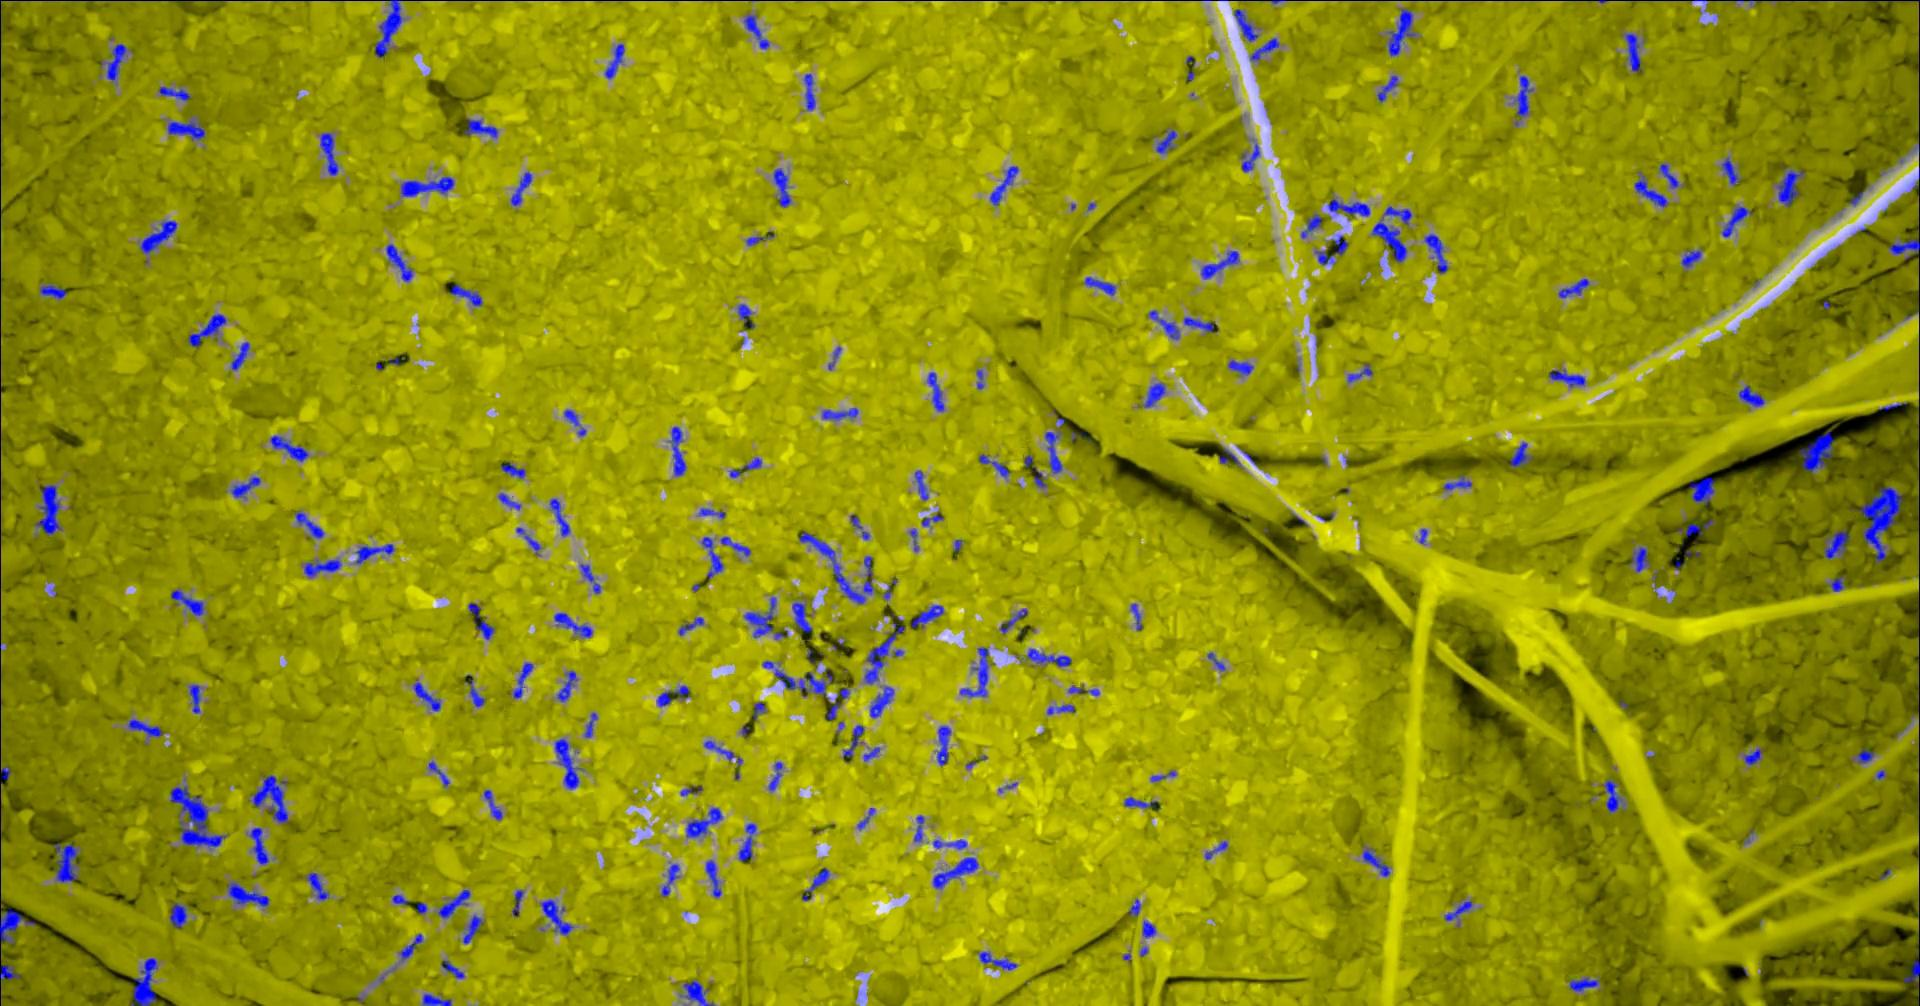ant: (797, 531, 872, 603), (863, 622, 904, 683), (251, 774, 288, 822), (775, 668, 832, 699), (375, 0, 401, 57), (1798, 431, 1834, 473), (1371, 218, 1406, 262), (959, 647, 988, 696), (932, 857, 978, 888), (554, 738, 582, 788), (1385, 8, 1415, 55), (187, 312, 226, 347), (130, 956, 157, 1005), (743, 596, 775, 636), (138, 220, 177, 253), (36, 484, 61, 533), (0, 908, 36, 942), (1888, 218, 1919, 258), (684, 807, 723, 837), (989, 165, 1018, 205), (540, 899, 573, 934), (1200, 250, 1239, 278), (1633, 174, 1667, 206), (226, 882, 269, 906), (400, 177, 453, 196), (703, 741, 742, 767), (386, 243, 411, 282), (99, 43, 126, 80), (1777, 169, 1803, 206), (270, 434, 307, 461), (1423, 232, 1448, 273), (1721, 206, 1751, 238), (437, 889, 470, 918), (552, 612, 592, 636), (469, 602, 494, 639), (701, 536, 723, 579), (801, 868, 829, 901), (53, 843, 77, 882), (743, 14, 770, 48), (1148, 310, 1178, 339), (1514, 75, 1531, 124), (170, 589, 203, 615), (824, 687, 850, 720), (319, 132, 338, 175), (669, 426, 686, 475), (413, 680, 439, 710), (1233, 8, 1257, 41), (842, 724, 863, 761), (1026, 648, 1070, 666), (295, 511, 323, 539), (1688, 476, 1714, 506), (549, 498, 569, 536), (354, 542, 392, 563), (978, 453, 1010, 478), (910, 605, 943, 627), (1327, 198, 1369, 216), (1044, 431, 1062, 473), (1363, 848, 1389, 876), (1823, 528, 1849, 558), (869, 686, 893, 716), (683, 981, 714, 1005), (1903, 948, 1919, 995), (657, 685, 690, 706), (513, 662, 532, 699), (249, 827, 268, 864), (977, 951, 1016, 969), (0, 949, 20, 983), (999, 608, 1027, 633), (510, 171, 531, 205), (1250, 37, 1279, 60), (168, 121, 204, 138), (738, 823, 756, 860), (604, 43, 623, 77), (773, 168, 790, 207), (927, 372, 943, 412), (450, 285, 481, 305), (729, 457, 761, 478), (556, 669, 577, 701), (516, 527, 540, 554), (1624, 33, 1641, 71), (463, 118, 497, 137), (705, 859, 721, 897), (230, 476, 260, 497), (791, 602, 811, 633), (1509, 441, 1531, 467), (399, 934, 422, 960), (1548, 370, 1585, 386), (1676, 520, 1713, 536), (303, 559, 340, 575), (465, 674, 484, 706), (306, 873, 328, 901), (127, 719, 163, 735), (662, 862, 679, 895), (1084, 276, 1115, 295), (1558, 278, 1589, 297), (720, 536, 750, 555), (580, 563, 599, 593), (483, 789, 502, 819), (428, 760, 450, 786), (462, 915, 483, 942), (1604, 779, 1622, 810), (936, 725, 950, 765), (1738, 385, 1764, 406), (1377, 75, 1397, 102), (1239, 144, 1258, 171), (1143, 382, 1164, 406), (1721, 156, 1738, 185), (231, 340, 249, 370), (1444, 901, 1470, 920), (1383, 206, 1411, 224), (1300, 213, 1321, 238), (803, 72, 815, 111), (678, 616, 703, 635), (1156, 130, 1176, 152), (157, 86, 190, 100), (1183, 318, 1217, 332), (1443, 474, 1470, 490), (1658, 163, 1677, 187), (1347, 363, 1371, 382), (850, 514, 869, 539), (439, 959, 463, 978), (822, 406, 857, 419), (1124, 796, 1159, 809), (169, 902, 185, 929), (1204, 840, 1227, 859), (737, 304, 754, 328), (1630, 547, 1648, 572), (914, 470, 928, 500), (1570, 976, 1597, 991), (768, 761, 782, 790), (39, 283, 66, 298), (498, 492, 521, 509), (857, 807, 874, 829), (1227, 359, 1253, 373), (188, 683, 201, 713), (500, 462, 524, 478), (1219, 447, 1239, 465), (1681, 249, 1700, 267), (510, 889, 523, 916), (1331, 235, 1347, 255), (422, 993, 451, 1005), (1067, 685, 1098, 695), (745, 234, 773, 245), (584, 713, 597, 737), (1130, 603, 1142, 630), (932, 840, 966, 848), (1208, 652, 1224, 669), (1743, 748, 1763, 763), (1046, 704, 1074, 714), (1316, 250, 1335, 264), (921, 514, 943, 526), (698, 508, 724, 518), (913, 815, 923, 841), (563, 409, 578, 426), (1857, 748, 1873, 763), (1142, 920, 1156, 937), (1032, 467, 1045, 486), (752, 701, 764, 719), (681, 785, 702, 795), (1829, 575, 1843, 591), (1128, 899, 1140, 916), (863, 747, 879, 760), (0, 765, 10, 784), (391, 894, 408, 904), (1864, 0, 1919, 1)
